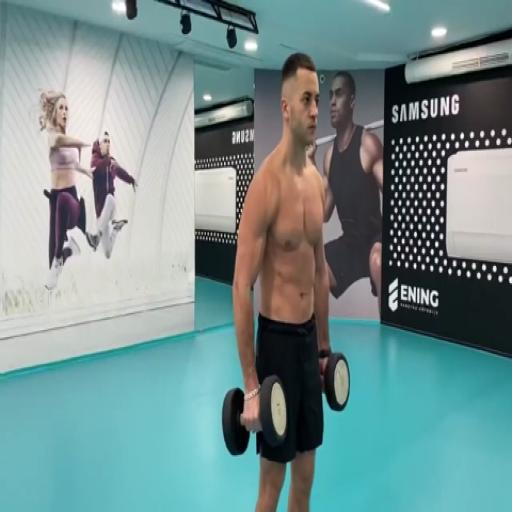exercise: (229, 50, 337, 510), (319, 70, 386, 324), (35, 87, 96, 294), (83, 128, 140, 263)
